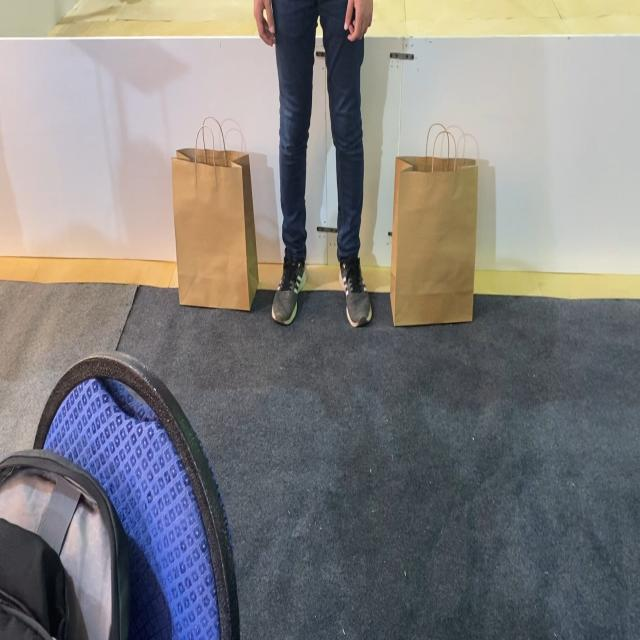paper bag: (390, 123, 478, 326), (171, 116, 259, 311)
